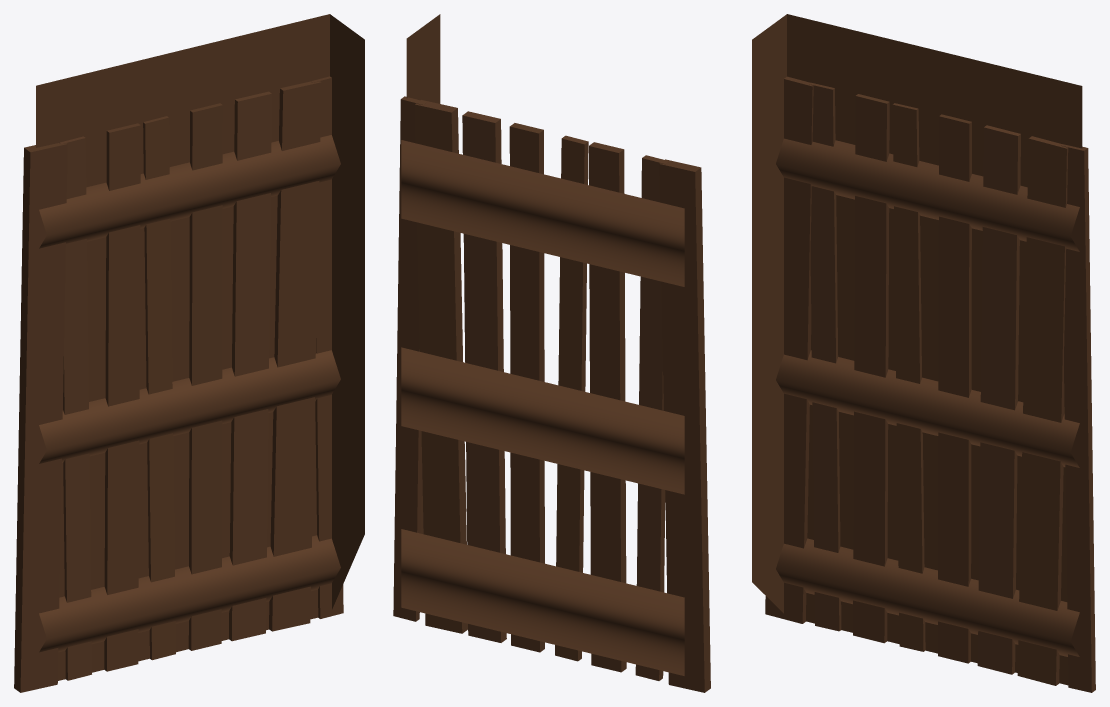
File: plank_01.glb
3 renders of one model, left to right at view 1: azimuth 30°, elevation 25°; view 2: azimuth 150°, elevation 25°; view 3: azimuth 330°, elevation 25°, orthographic. The views are drawn at different scales.
Parts seen in each view (by area): view 1: door_plank_01; view 2: door_plank_01; view 3: door_plank_01.
Boxes of the visible parts, box(x1,y1,x2,y2) form: door_plank_01: box(14, 14, 364, 692); door_plank_01: box(393, 14, 710, 692); door_plank_01: box(752, 14, 1095, 692).
Size of the model in its own units: 1.32 by 2.35 by 0.2871.
